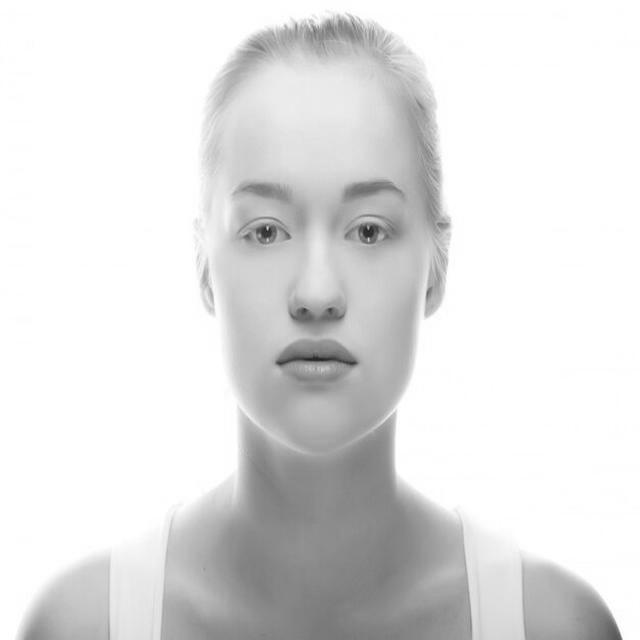Neutral: (210, 72, 428, 456)
